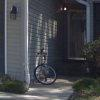Bicycle: (31, 41, 59, 92)
